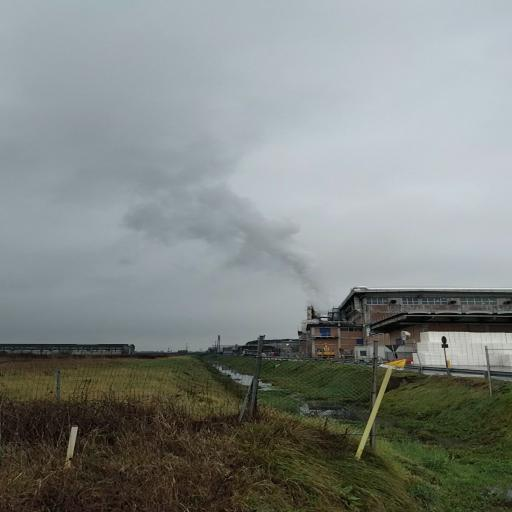leakage: (41, 124, 345, 327)
